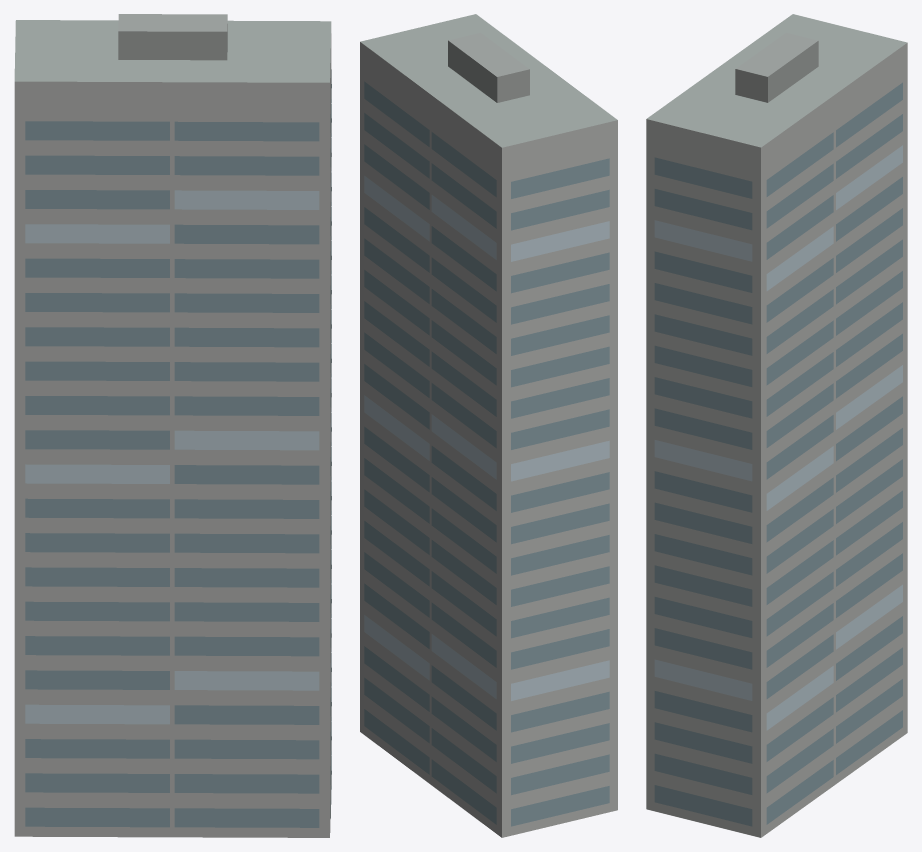
The model's file is fallback-dmc-raemian-e-pyeonhansesang-111.glb.
3 views of the same model, side by side, from view 1: azimuth 30°, elevation 25°; view 2: azimuth 150°, elevation 25°; view 3: azimuth 270°, elevation 25° (orthographic). The views are drawn at different scales.
Parts seen in each view (by area): view 1: fallback-dmc-raemian-e-pyeonhansesang-111; view 2: fallback-dmc-raemian-e-pyeonhansesang-111; view 3: fallback-dmc-raemian-e-pyeonhansesang-111.
Part boxes in pixels (<box>): fallback-dmc-raemian-e-pyeonhansesang-111: <box>14,14,331,837</box>; fallback-dmc-raemian-e-pyeonhansesang-111: <box>360,14,617,837</box>; fallback-dmc-raemian-e-pyeonhansesang-111: <box>646,14,907,837</box>.
Bounding box in the file's own units: 26.4 × 66 × 21.82.
